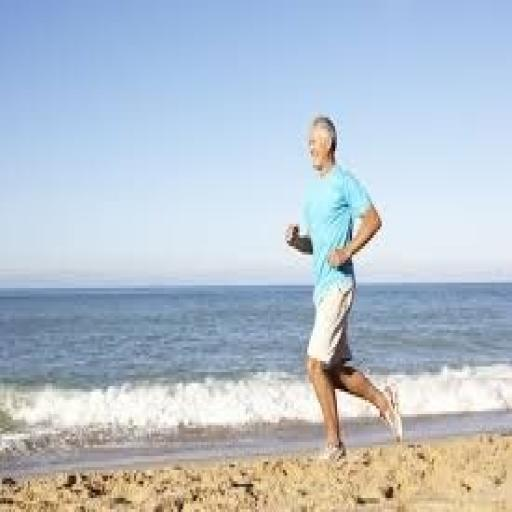running: (283, 112, 406, 464)
